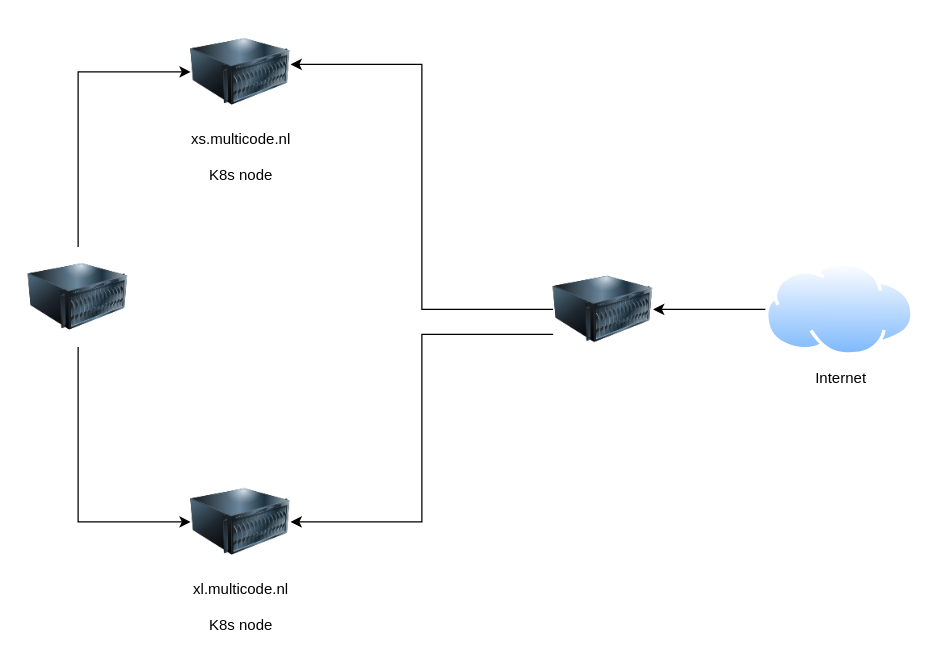
This 936x655 diagram has some shape labels left out. The shapes that lost their labels are listed below. From the top down, each one's centre as x and y in pixels, then its label:
At (78,296): "ms.multicode.nl K8s master node".
At (602,309): "ha.multicode.nl Load balancer".
